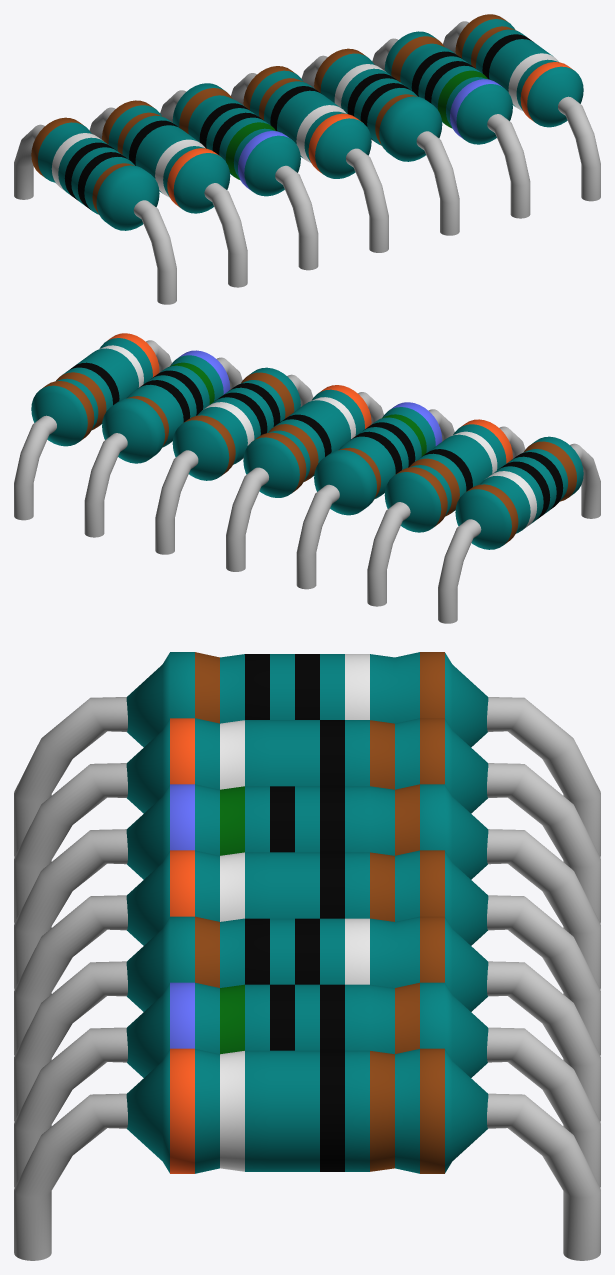
The model's file is Resistor2x1.fbx.
3 renders of one model, top to bottom at view 1: azimuth 30°, elevation 25°; view 2: azimuth 150°, elevation 25°; view 3: azimuth 270°, elevation 25°, orthographic. The views are drawn at different scales.
Visible parts, largest first — view 1: Resistors; view 2: Resistors; view 3: Resistors.
Part boxes in pixels (x1,y1,x2,y2): Resistors: (14, 14, 600, 304); Resistors: (14, 333, 600, 623); Resistors: (14, 652, 600, 1260).
Size of the model in its own units: 170 by 34.98 by 93.79.
